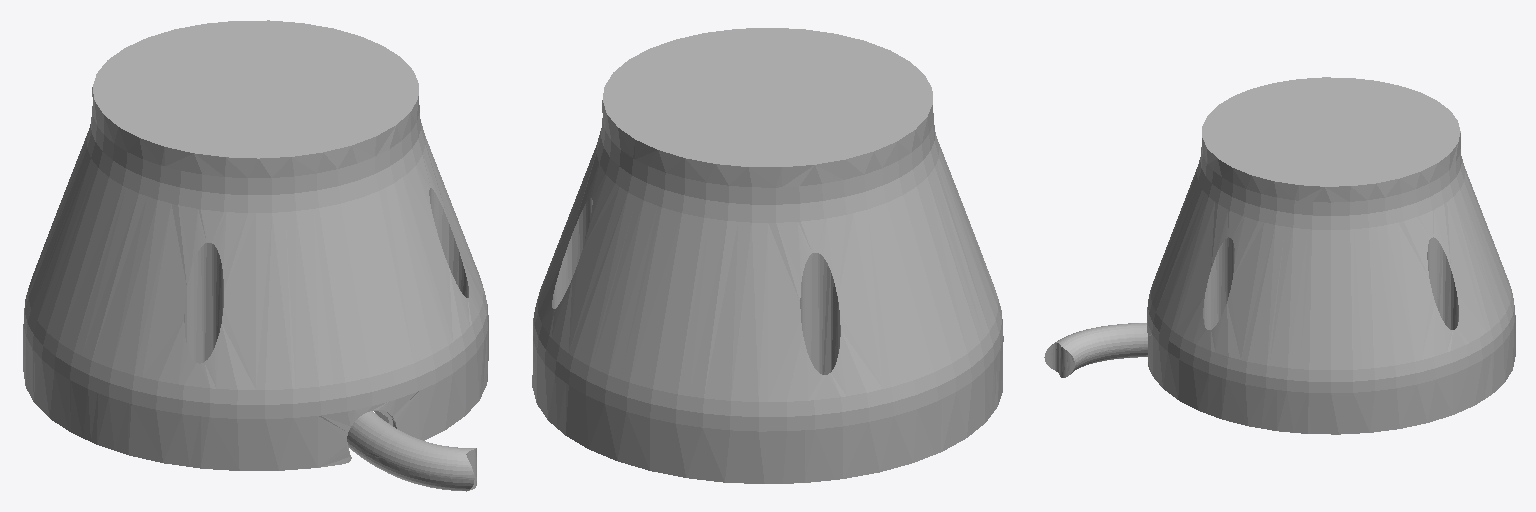
URDF robot description (ur33_6):
<?xml version="1.0" encoding="utf-8"?>
<!-- This URDF was automatically created by SolidWorks to URDF Exporter! Originally created by [author] ([email redacted]) 
     Commit Version: 1.6.0-4-g7f85cfe  Build Version: 1.6.7995.38578
     For more information, please see http://wiki.ros.org/sw_urdf_exporter -->
<robot
  name="ur33_6">
  <link
    name="base_link">
    <inertial>
      <origin
        xyz="3.93116168057693E-05 -0.00080849108012599 0.046220310995705"
        rpy="0 0 0" />
      <mass
        value="0.615785283013905" />
      <inertia
        ixx="0.000761300764311581"
        ixy="2.98963200654776E-07"
        ixz="3.53676883539921E-07"
        iyy="0.000774576499049897"
        iyz="-3.46585976118832E-06"
        izz="0.00100294058166069" />
    </inertial>
    <visual>
      <origin
        xyz="0 0 0"
        rpy="0 0 0" />
      <geometry>
        <mesh
          filename="package://ur33_6/meshes/base_link.STL" />
      </geometry>
      <material
        name="">
        <color
          rgba="0.752941176470588 0.752941176470588 0.752941176470588 1" />
      </material>
    </visual>
    <collision>
      <origin
        xyz="0 0 0"
        rpy="0 0 0" />
      <geometry>
        <mesh
          filename="package://ur33_6/meshes/base_link.STL" />
      </geometry>
    </collision>
  </link>
  <link
    name="link1">
    <inertial>
      <origin
        xyz="5.93233722687419E-06 0.00733887689492253 0.0542705711505159"
        rpy="0 0 0" />
      <mass
        value="0.755672543044164" />
      <inertia
        ixx="0.00106903646469707"
        ixy="-9.3578383313981E-08"
        ixz="9.69501743999156E-08"
        iyy="0.000990136235299753"
        iyz="-0.000131066348698992"
        izz="0.000906508260023002" />
    </inertial>
    <visual>
      <origin
        xyz="0 0 0"
        rpy="0 0 0" />
      <geometry>
        <mesh
          filename="package://ur33_6/meshes/link1.STL" />
      </geometry>
      <material
        name="">
        <color
          rgba="0.752941176470588 0.752941176470588 0.752941176470588 1" />
      </material>
    </visual>
    <collision>
      <origin
        xyz="0 0 0"
        rpy="0 0 0" />
      <geometry>
        <mesh
          filename="package://ur33_6/meshes/link1.STL" />
      </geometry>
    </collision>
  </link>
  <joint
    name="joint1"
    type="continuous">
    <origin
      xyz="0 0 0.08605"
      rpy="0 0 1.194" />
    <parent
      link="base_link" />
    <child
      link="link1" />
    <axis
      xyz="0 0 0" />
    <limit
      lower="-3.14"
      upper="3.14"
      effort="100"
      velocity="2" />
  </joint>
  <link
    name="link2">
    <inertial>
      <origin
        xyz="-4.23814771371989E-06 0.105709161934515 -0.112064481944909"
        rpy="0 0 0" />
      <mass
        value="1.8016451422963" />
      <inertia
        ixx="0.00264980144357632"
        ixy="1.01439170596283E-07"
        ixz="9.4093050108596E-08"
        iyy="0.00166991160183402"
        iyz="8.11018253676998E-05"
        izz="0.00251729702420449" />
    </inertial>
    <visual>
      <origin
        xyz="0 0 0"
        rpy="0 0 0" />
      <geometry>
        <mesh
          filename="package://ur33_6/meshes/link2.STL" />
      </geometry>
      <material
        name="">
        <color
          rgba="0.752941176470588 0.752941176470588 0.752941176470588 1" />
      </material>
    </visual>
    <collision>
      <origin
        xyz="0 0 0"
        rpy="0 0 0" />
      <geometry>
        <mesh
          filename="package://ur33_6/meshes/link2.STL" />
      </geometry>
    </collision>
  </link>
  <joint
    name="joint2"
    type="continuous">
    <origin
      xyz="0 0.0045252 0.06585"
      rpy="1.5708 0.093085 0" />
    <parent
      link="link1" />
    <child
      link="link2" />
    <axis
      xyz="0 0 0" />
    <limit
      lower="-3.14"
      upper="3.14"
      effort="100"
      velocity="2" />
  </joint>
  <link
    name="link3">
    <inertial>
      <origin
        xyz="2.1533205694646E-06 0.111202407410864 -0.0272584585658635"
        rpy="0 0 0" />
      <mass
        value="0.96231209739851" />
      <inertia
        ixx="0.00107272310208294"
        ixy="1.48377811289387E-08"
        ixz="5.61214230503668E-09"
        iyy="0.000542692872745842"
        iyz="-4.61073590463976E-05"
        izz="0.00101483531502097" />
    </inertial>
    <visual>
      <origin
        xyz="0 0 0"
        rpy="0 0 0" />
      <geometry>
        <mesh
          filename="package://ur33_6/meshes/link3.STL" />
      </geometry>
      <material
        name="">
        <color
          rgba="0.752941176470588 0.752941176470588 0.752941176470588 1" />
      </material>
    </visual>
    <collision>
      <origin
        xyz="0 0 0"
        rpy="0 0 0" />
      <geometry>
        <mesh
          filename="package://ur33_6/meshes/link3.STL" />
      </geometry>
    </collision>
  </link>
  <joint
    name="joint3"
    type="continuous">
    <origin
      xyz="0 0.24365 0"
      rpy="0 0 0.8726" />
    <parent
      link="link2" />
    <child
      link="link3" />
    <axis
      xyz="0 0 0" />
    <limit
      lower="-3.14"
      upper="3.14"
      effort="100"
      velocity="2" />
  </joint>
  <link
    name="link4">
    <inertial>
      <origin
        xyz="-6.87074746358318E-06 -0.000517791285785663 -0.0729695966178697"
        rpy="0 0 0" />
      <mass
        value="0.325310691517918" />
      <inertia
        ixx="0.000226248292160051"
        ixy="-8.58249374950063E-10"
        ixz="1.76002831133202E-09"
        iyy="0.000199108352446061"
        iyz="1.83492320328483E-05"
        izz="0.000194597710208201" />
    </inertial>
    <visual>
      <origin
        xyz="0 0 0"
        rpy="0 0 0" />
      <geometry>
        <mesh
          filename="package://ur33_6/meshes/link4.STL" />
      </geometry>
      <material
        name="">
        <color
          rgba="0.752941176470588 0.752941176470588 0.752941176470588 1" />
      </material>
    </visual>
    <collision>
      <origin
        xyz="0 0 0"
        rpy="0 0 0" />
      <geometry>
        <mesh
          filename="package://ur33_6/meshes/link4.STL" />
      </geometry>
    </collision>
  </link>
  <joint
    name="joint4"
    type="continuous">
    <origin
      xyz="0 0.213 -0.02662"
      rpy="0 0 -0.26852" />
    <parent
      link="link3" />
    <child
      link="link4" />
    <axis
      xyz="0 0 0" />
    <limit
      lower="-3.14"
      upper="3.14"
      effort="100"
      velocity="2" />
  </joint>
  <link
    name="link5">
    <inertial>
      <origin
        xyz="-6.59893613241813E-06 0.000517351050033837 0.0612690628441405"
        rpy="0 0 0" />
      <mass
        value="0.325305506708558" />
      <inertia
        ixx="0.000226237752528649"
        ixy="1.95531185987347E-09"
        ixz="-1.55670240939302E-09"
        iyy="0.000199102587673398"
        iyz="1.83492345003681E-05"
        izz="0.000194599766623026" />
    </inertial>
    <visual>
      <origin
        xyz="0 0 0"
        rpy="0 0 0" />
      <geometry>
        <mesh
          filename="package://ur33_6/meshes/link5.STL" />
      </geometry>
      <material
        name="">
        <color
          rgba="0.752941176470588 0.752941176470588 0.752941176470588 1" />
      </material>
    </visual>
    <collision>
      <origin
        xyz="0 0 0"
        rpy="0 0 0" />
      <geometry>
        <mesh
          filename="package://ur33_6/meshes/link5.STL" />
      </geometry>
    </collision>
  </link>
  <joint
    name="joint5"
    type="continuous">
    <origin
      xyz="0 0.016207 -0.078894"
      rpy="1.5708 -0.12289 3.1416" />
    <parent
      link="link4" />
    <child
      link="link5" />
    <axis
      xyz="0 0 0" />
    <limit
      lower="-3.14"
      upper="3.14"
      effort="100"
      velocity="2" />
  </joint>
  <link
    name="link6">
    <inertial>
      <origin
        xyz="-3.59388435677843E-09 -0.000103313851675169 -0.04616917936415"
        rpy="0 0 0" />
      <mass
        value="0.115355203352681" />
      <inertia
        ixx="4.24687726805148E-05"
        ixy="8.5248671677715E-12"
        ixz="4.52238071091475E-12"
        iyy="4.26814463367368E-05"
        iyz="-1.03222290929217E-07"
        izz="5.9066618321653E-05" />
    </inertial>
    <visual>
      <origin
        xyz="0 0 0"
        rpy="0 0 0" />
      <geometry>
        <mesh
          filename="package://ur33_6/meshes/link6.STL" />
      </geometry>
      <material
        name="">
        <color
          rgba="0.752941176470588 0.752941176470588 0.752941176470588 1" />
      </material>
    </visual>
    <collision>
      <origin
        xyz="0 0 0"
        rpy="0 0 0" />
      <geometry>
        <mesh
          filename="package://ur33_6/meshes/link6.STL" />
      </geometry>
    </collision>
  </link>
  <joint
    name="joint6"
    type="continuous">
    <origin
      xyz="0 -0.015804 0.067193"
      rpy="-1.5708 0.11266 0" />
    <parent
      link="link5" />
    <child
      link="link6" />
    <axis
      xyz="0 0 0" />
    <limit
      lower="-3.14"
      upper="3.14"
      effort="100"
      velocity="2" />
  </joint>
</robot>

--- Render facts (derived) ---
3 views of the same robot in one strip: view 1: azimuth 30°, elevation 25°; view 2: azimuth 150°, elevation 25°; view 3: azimuth 270°, elevation 25° (orthographic).
Robot: ur33_6 — 7 links, 6 joints (6 continuous); root link base_link; default pose: all joints at 0.
Visible links, largest first — view 1: base_link; view 2: base_link; view 3: base_link.
Boxes of the visible links, <box> form: base_link: <box>23,20,488,491</box>; base_link: <box>532,28,1003,483</box>; base_link: <box>1044,77,1515,434</box>.
Size in the robot's own frame: 0.128 by 0.1635 by 0.0868 metres.
1 mesh visuals loaded from 7 distinct referenced files (1 binary STL); not drawn: 6 (reference not matched to a file when rendering).